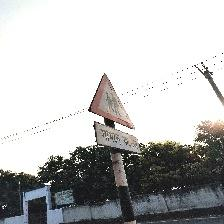College-in-front: (92, 63, 153, 156)
